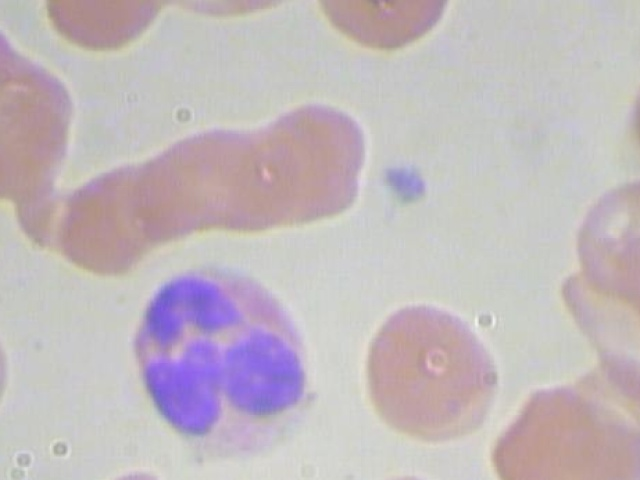Platelets: (375, 161, 438, 211)
RBC: (353, 296, 518, 439), (487, 372, 640, 480), (40, 164, 157, 280), (258, 88, 377, 196), (307, 0, 473, 64), (0, 87, 81, 200), (35, 0, 167, 54), (176, 0, 313, 32), (0, 9, 25, 125), (0, 307, 24, 423), (626, 231, 640, 378), (625, 54, 640, 171)
WBC: (111, 260, 324, 461)
